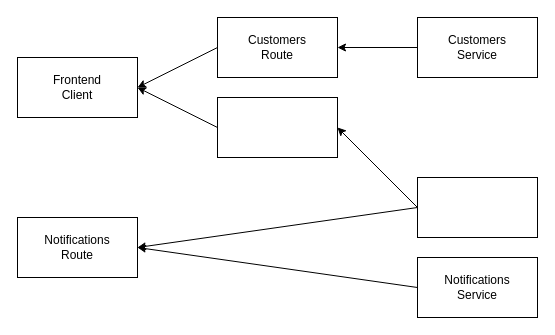
Some shapes in this 555 by 335 pixel diagram are drawn without their labels. Each missing label, with the centre of its shape:
"Employees Route" belongs at pixel 277 127.
"Employees Service" belongs at pixel 477 207.
